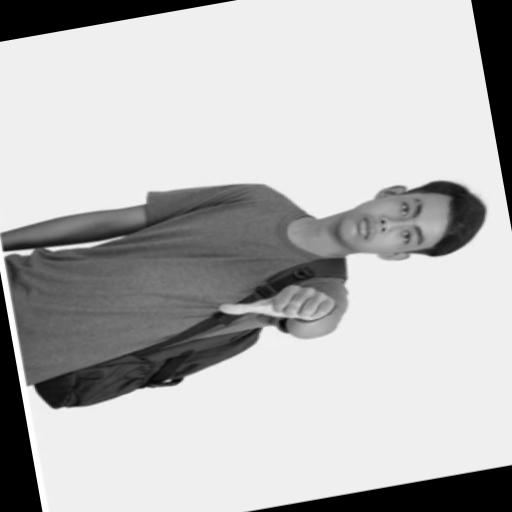Thumbs_Down: (192, 258, 364, 368)
